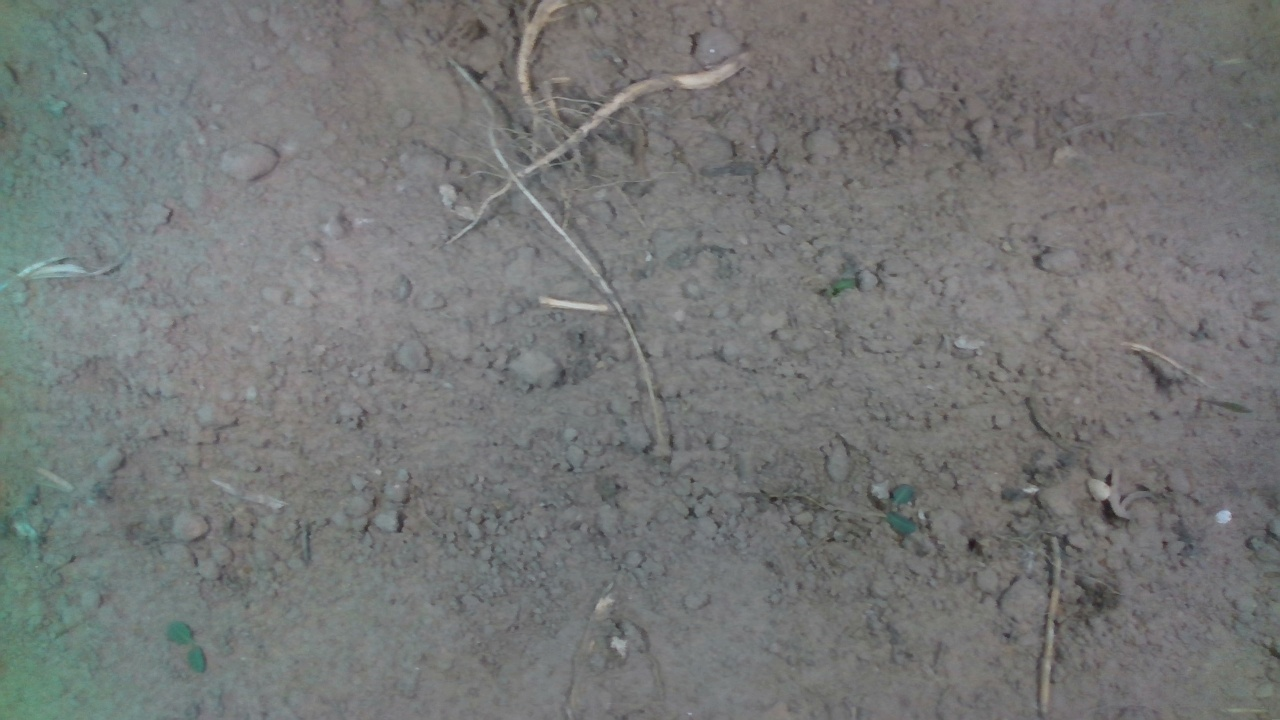weed: (164, 619, 208, 676)
